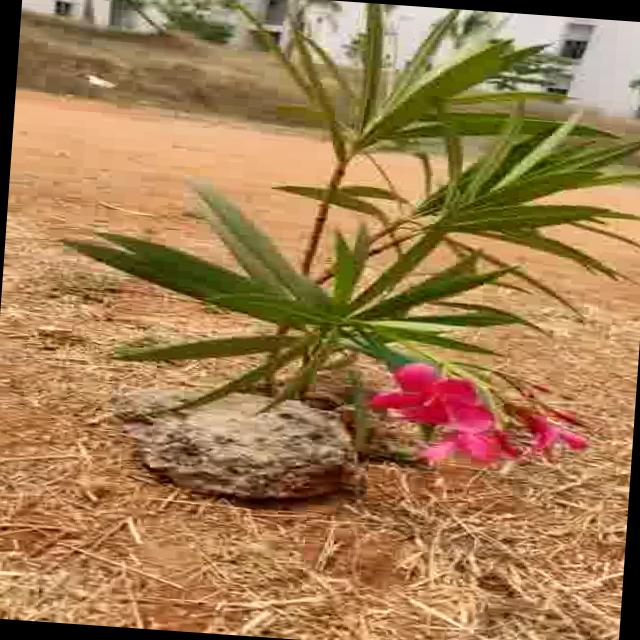OLEANDER: (62, 10, 629, 425)
